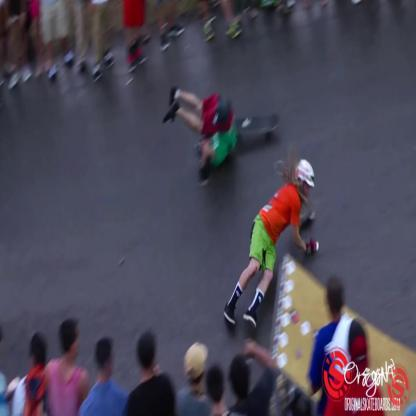Fall_Down: (223, 158, 321, 336)
